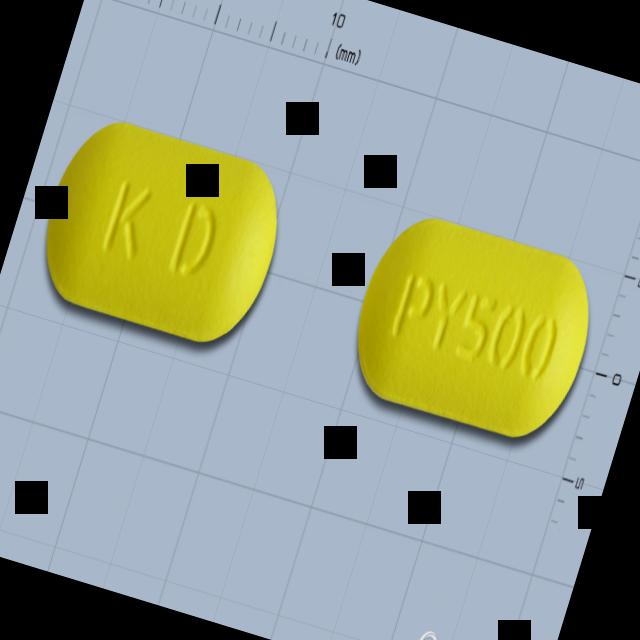Pyrocin Tab: (25, 106, 299, 356), (338, 203, 610, 450)
